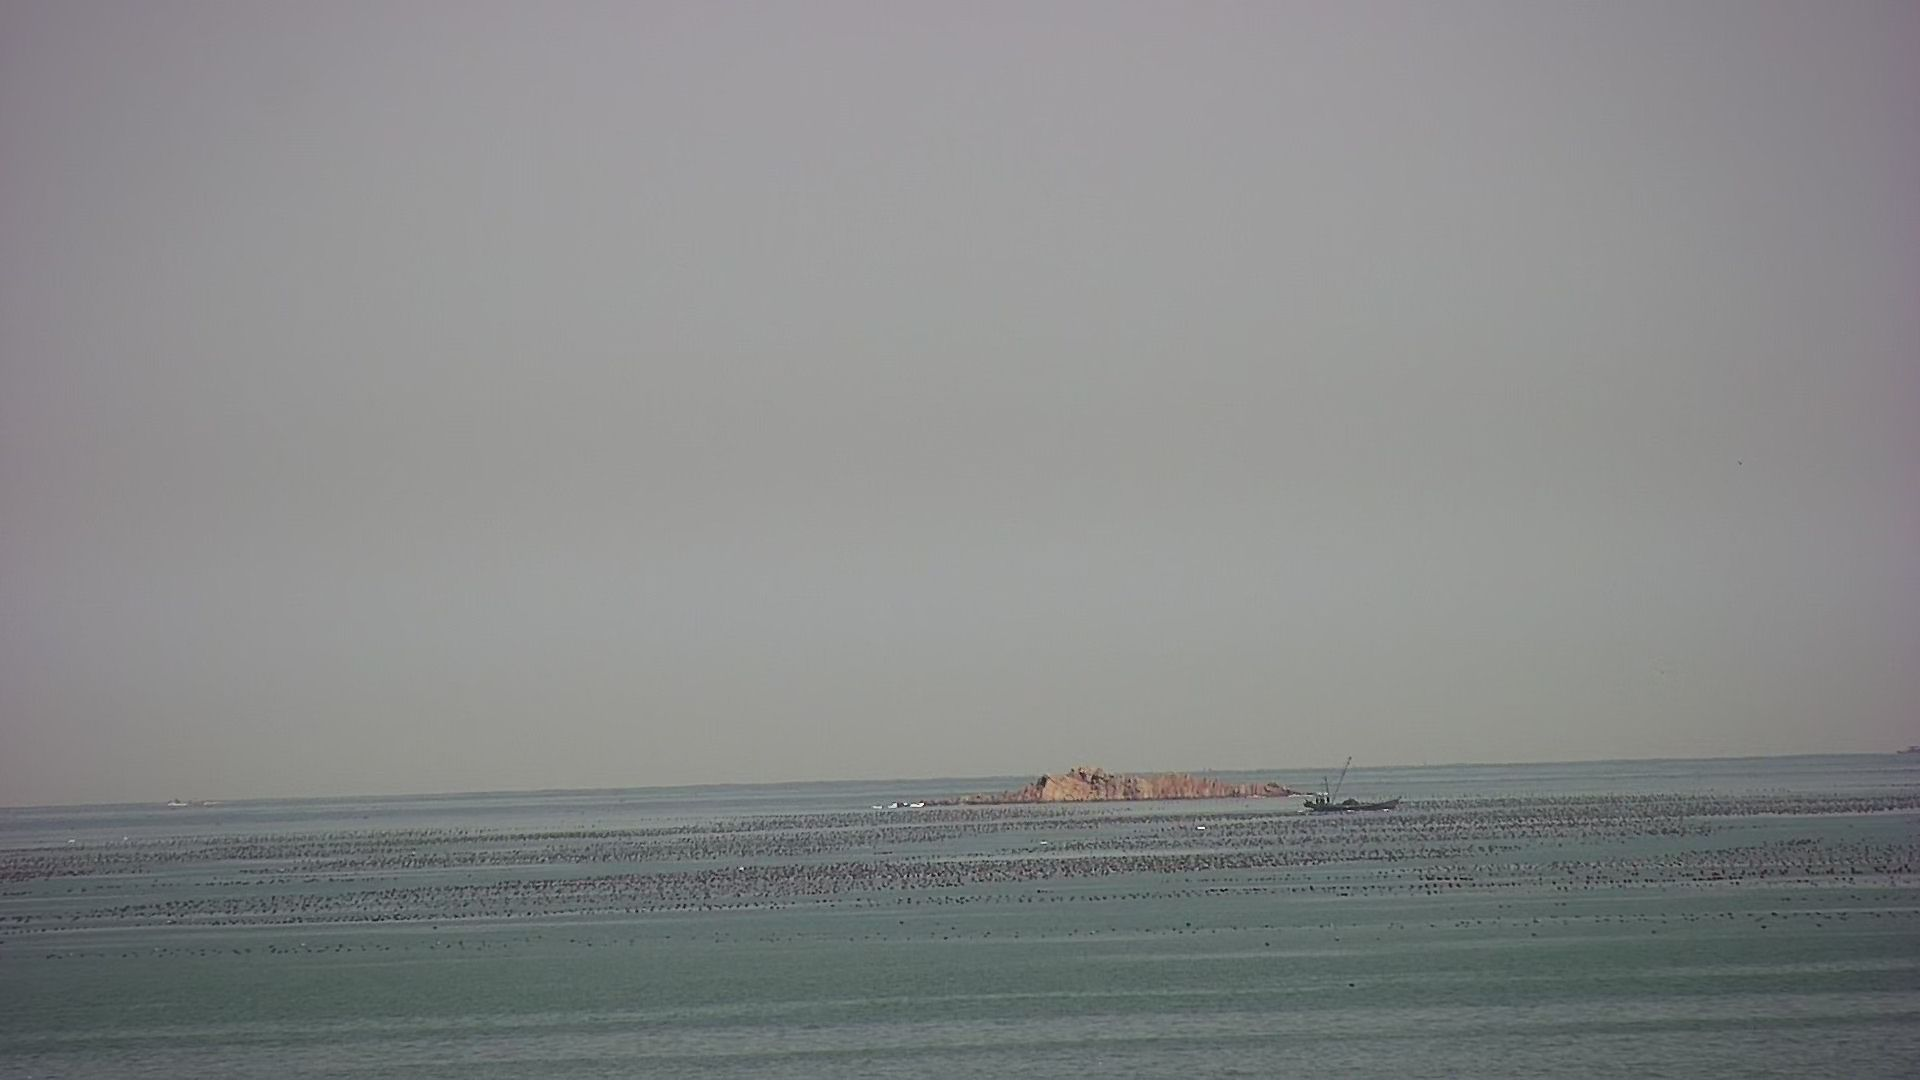boat: (1303, 754, 1403, 815)
rock: (880, 764, 1299, 808)
